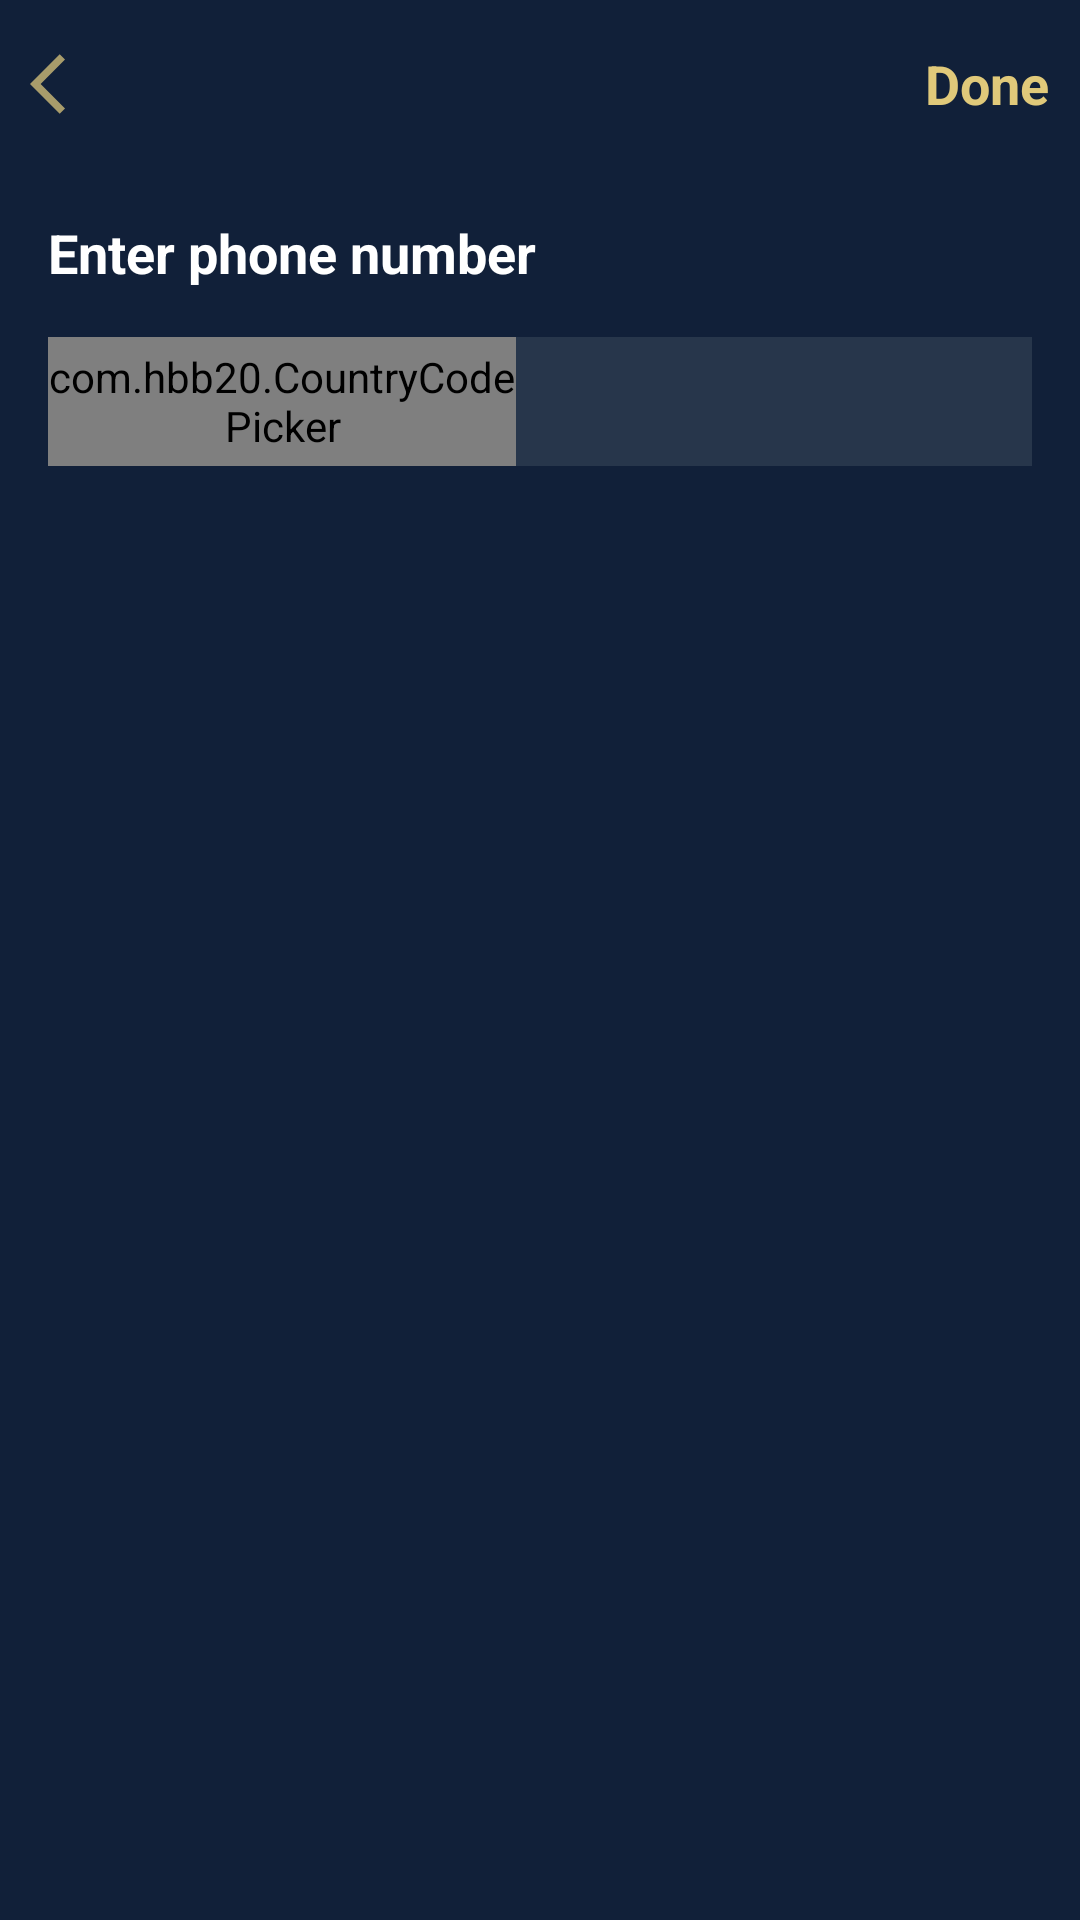

Where to tap for icons on this 1080x1920 app screen, as point (x, y):
arrow back: point (47, 84)
